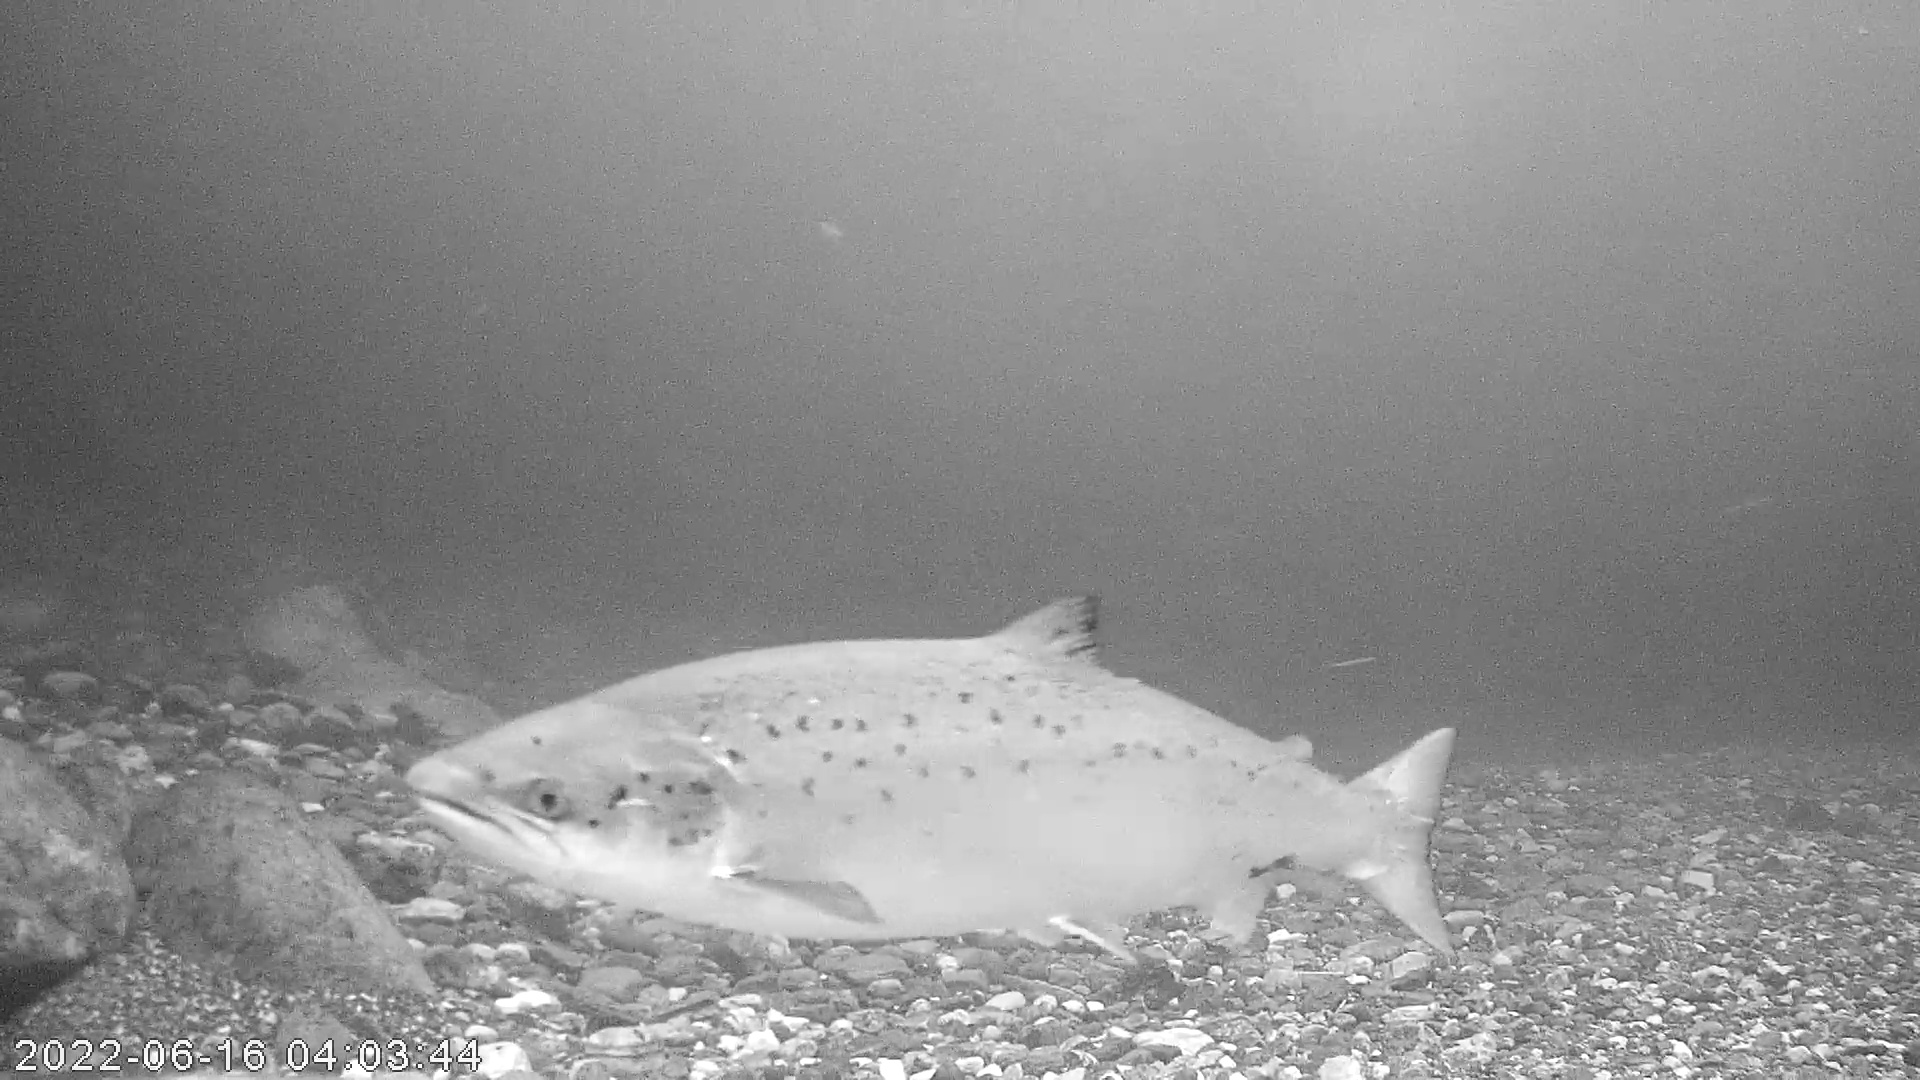salmon: (402, 591, 1461, 967)
